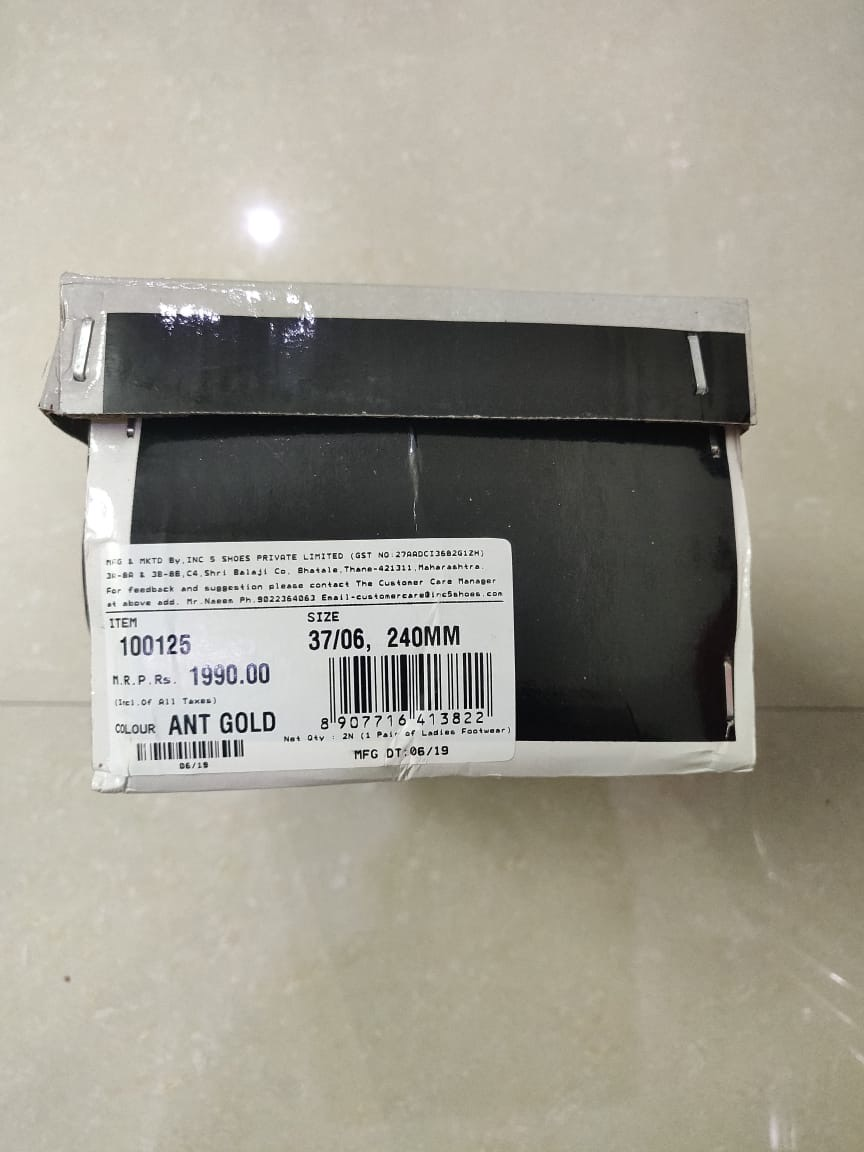barcode: (317, 648, 498, 726)
